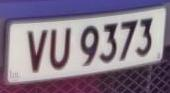3: (99, 18, 121, 68), (136, 15, 156, 62)
7: (118, 16, 140, 66)
9: (78, 20, 101, 71)
U: (48, 25, 73, 74)
V: (24, 27, 51, 76)
